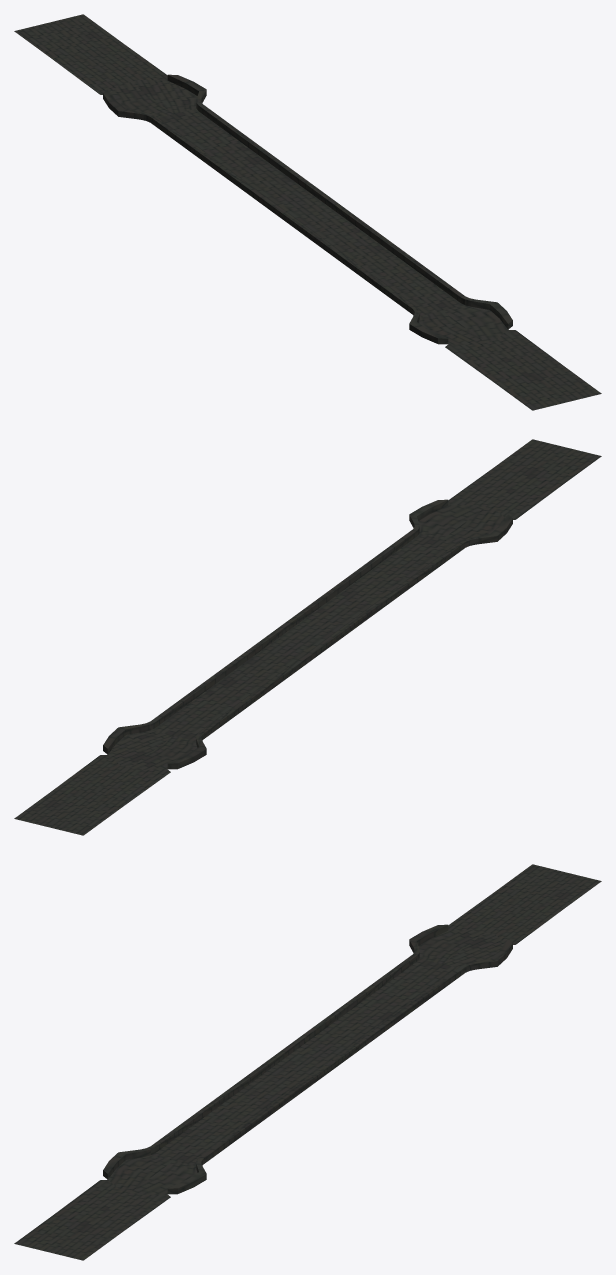
The model's file is Bridge_ground.fbx.
3 renders of one model, top to bottom at view 1: azimuth 30°, elevation 25°; view 2: azimuth 150°, elevation 25°; view 3: azimuth 330°, elevation 25°, orthographic.
Parts seen in each view (by area): view 1: InitialBridge_Ground; view 2: InitialBridge_Ground; view 3: InitialBridge_Ground.
Part boxes in pixels (x1,y1,x2,y2): InitialBridge_Ground: (14, 14, 601, 410); InitialBridge_Ground: (14, 439, 601, 835); InitialBridge_Ground: (14, 864, 601, 1260).
Size of the model in its own units: 3972 by 249 by 40342.
